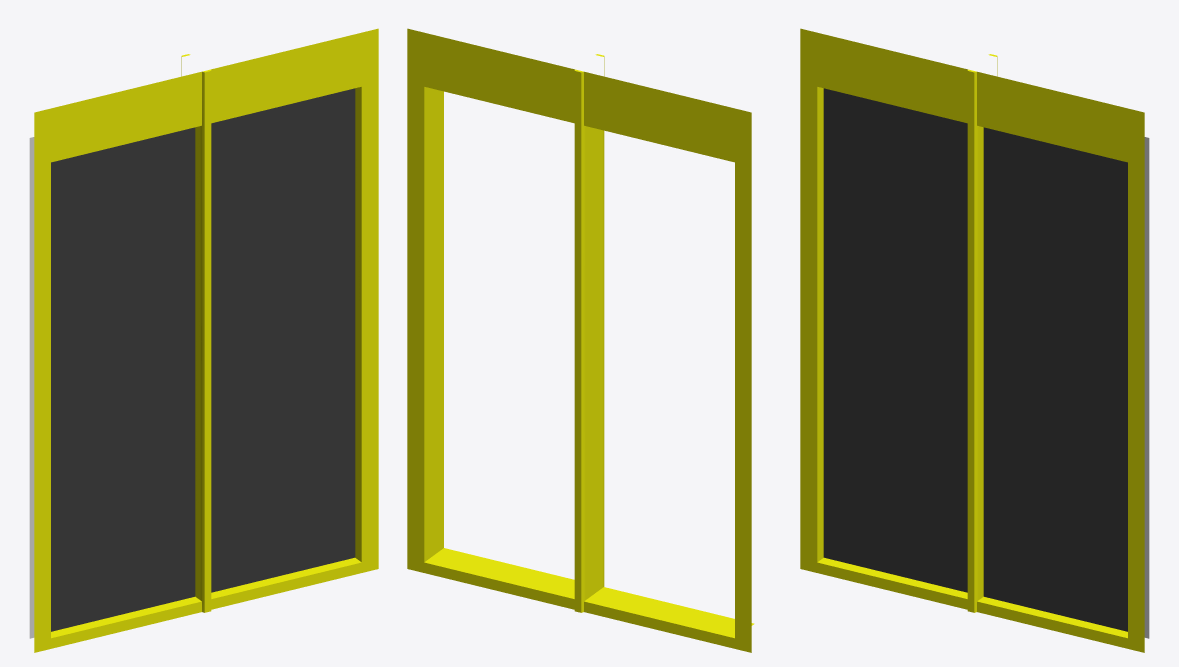
File: metal-fullwindow.glb
3 renders of one model, left to right at view 1: azimuth 30°, elevation 25°; view 2: azimuth 150°, elevation 25°; view 3: azimuth 330°, elevation 25°, orthographic.
Visible parts, largest first — view 1: Metal_FullWindow; view 2: Metal_FullWindow; view 3: Metal_FullWindow.
Boxes of the visible parts, x1=… form: Metal_FullWindow: x1=29, y1=28, x2=378, y2=652; Metal_FullWindow: x1=407, y1=28, x2=754, y2=652; Metal_FullWindow: x1=800, y1=28, x2=1149, y2=652.
Size of the model in its own units: 2 by 3 by 0.2311.
Materials: 3 (1 with a texture image).
